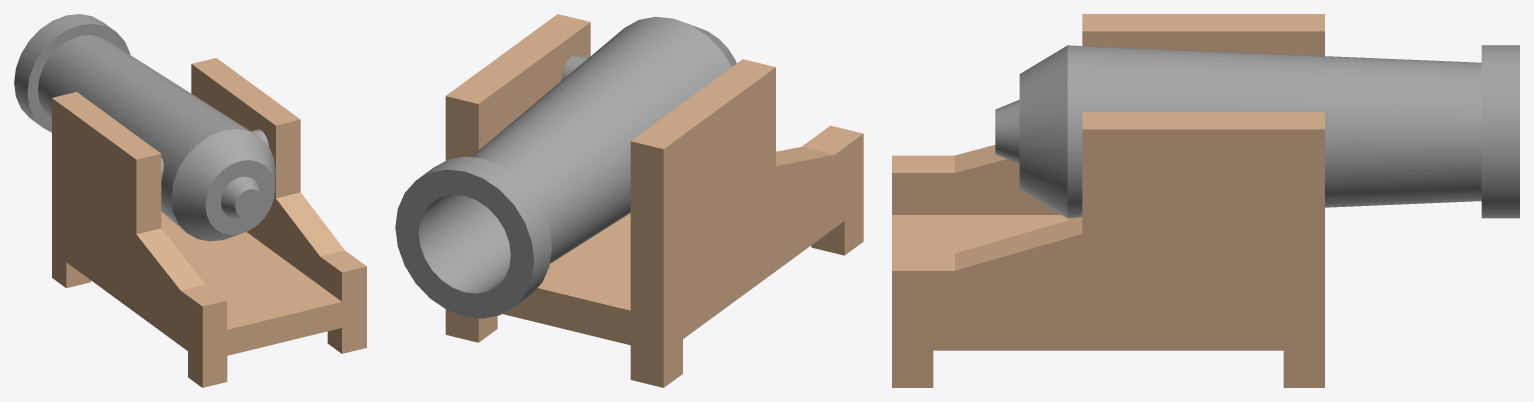
The model's file is cannonLarge.glb.
The picture shows the model from 3 angles, left to right: view 1: azimuth 30°, elevation 25°; view 2: azimuth 150°, elevation 25°; view 3: azimuth 270°, elevation 25°; orthographic projection. The views are drawn at different scales.
Parts seen in each view (by area): view 1: cannonLarge, barrel 1; view 2: cannonLarge, barrel 1; view 3: cannonLarge, barrel 1.
Boxes of the visible parts, x1,y1,x2,y2 form: cannonLarge: (52, 58, 366, 387); barrel 1: (14, 14, 275, 241); cannonLarge: (445, 14, 863, 387); barrel 1: (395, 16, 736, 318); cannonLarge: (892, 14, 1324, 387); barrel 1: (995, 45, 1519, 218).
Size of the model in its own units: 0.4345 by 0.4867 by 0.9994.
